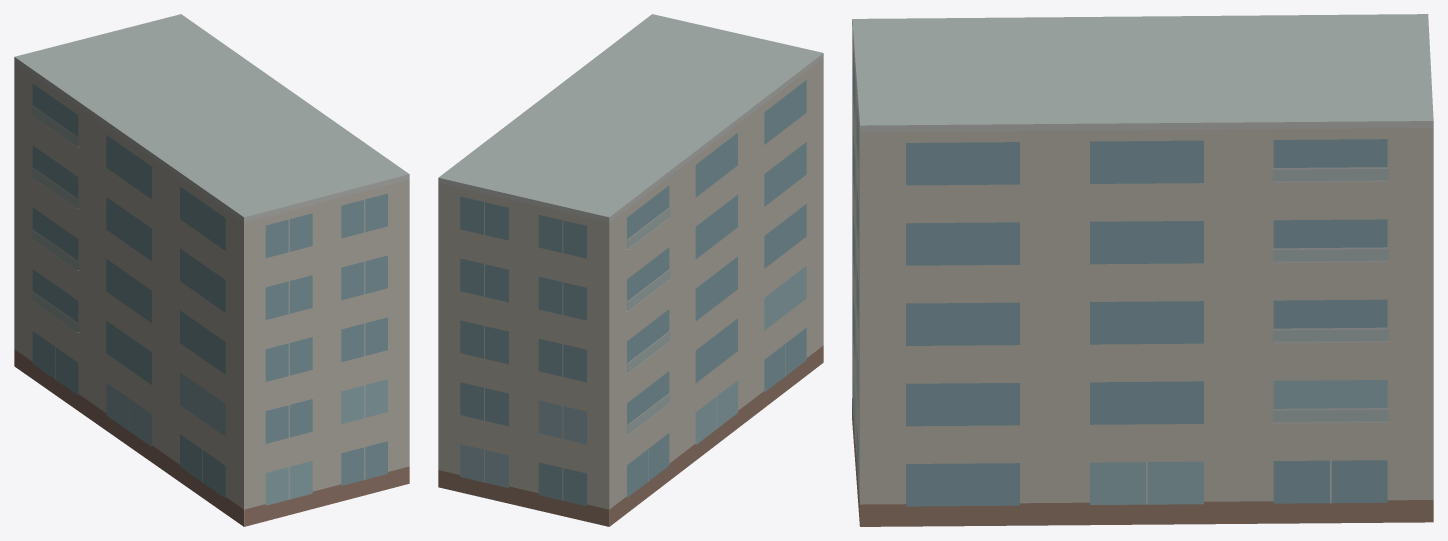
The model's file is survey-upis-32924834.glb.
The picture shows the model from 3 angles, left to right: view 1: azimuth 30°, elevation 25°; view 2: azimuth 150°, elevation 25°; view 3: azimuth 270°, elevation 25°; orthographic projection. The views are drawn at different scales.
Parts seen in each view (by area): view 1: survey-upis-32924834.tmp; view 2: survey-upis-32924834.tmp; view 3: survey-upis-32924834.tmp.
Part boxes in pixels (box(x1,y1,x2,y2)): survey-upis-32924834.tmp: box(14, 14, 409, 526); survey-upis-32924834.tmp: box(438, 14, 823, 526); survey-upis-32924834.tmp: box(852, 14, 1433, 526).
Size of the model in its own units: 8.47 by 14.2 by 18.65.
